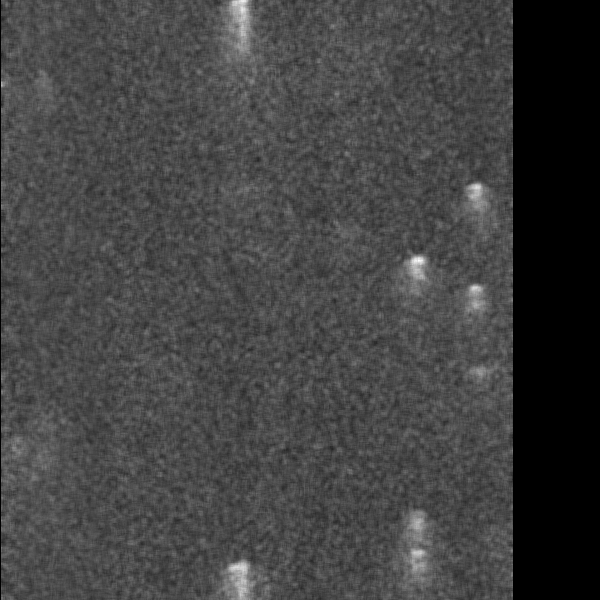spark: (400, 502, 439, 600), (463, 179, 486, 252), (221, 557, 260, 600), (466, 277, 490, 339), (406, 250, 428, 309), (459, 362, 494, 387)
